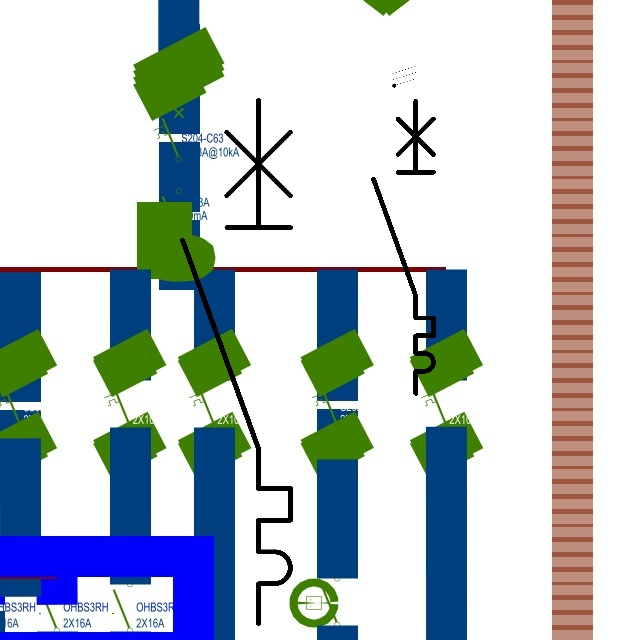interruptor_termomagnetico: (169, 87, 304, 637), (366, 93, 441, 400)
